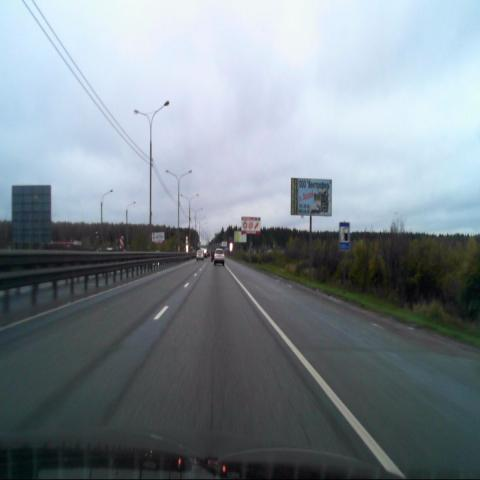7_3: (338, 221, 350, 250)
